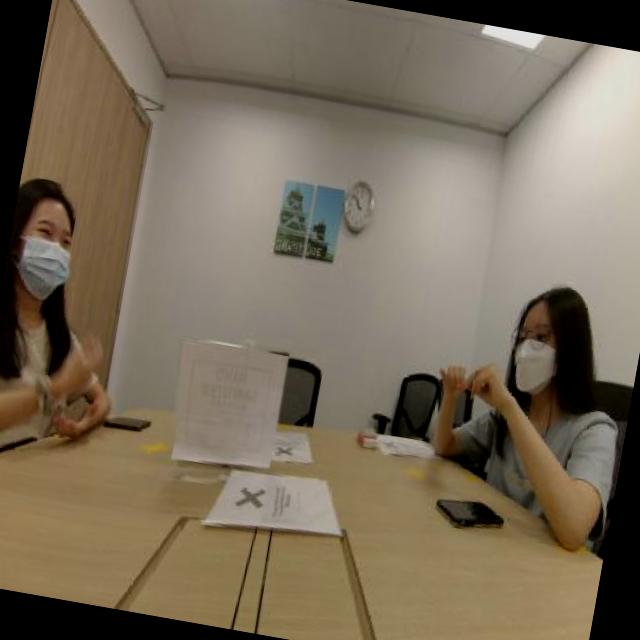Person: (427, 232, 616, 490), (0, 151, 104, 425)
